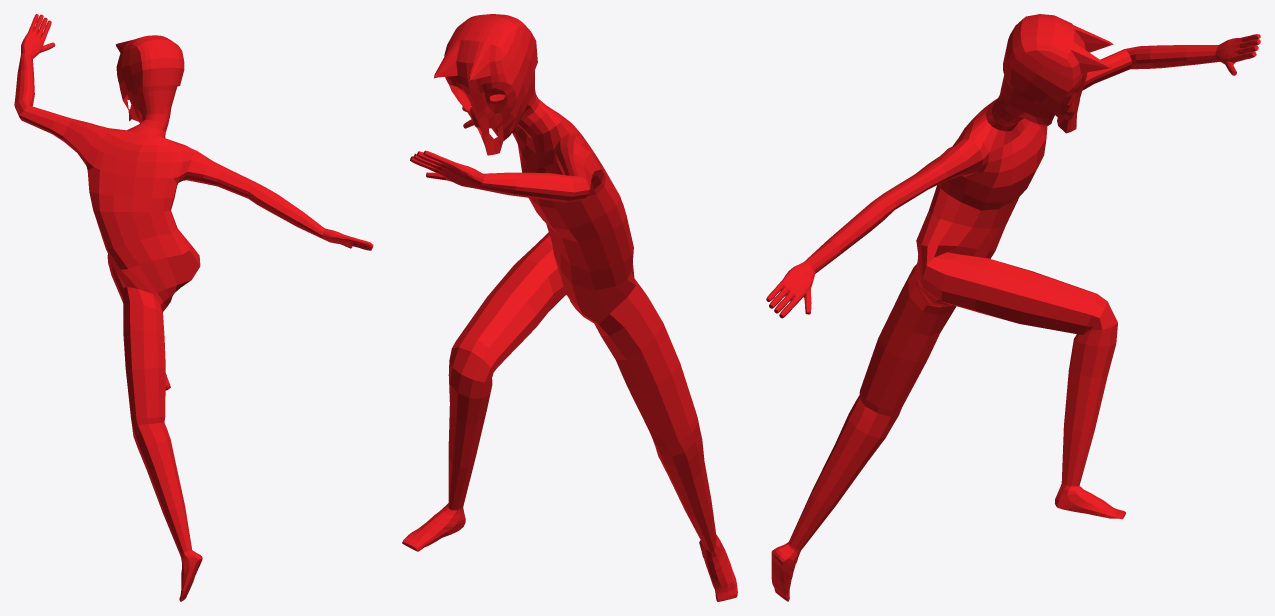
File: saltoadelanteE_000109.obj
3 views of the same model, side by side, from view 1: azimuth 30°, elevation 25°; view 2: azimuth 150°, elevation 25°; view 3: azimuth 270°, elevation 25° (orthographic). The views are drawn at different scales.
Parts seen in each view (by area): view 1: Plane.002_Plane.001; view 2: Plane.002_Plane.001; view 3: Plane.002_Plane.001.
Part boxes in pixels (left/top/right/bottom): Plane.002_Plane.001: left=14, top=14, right=373, bottom=601; Plane.002_Plane.001: left=402, top=14, right=737, bottom=601; Plane.002_Plane.001: left=766, top=14, right=1260, bottom=601.
Size of the model in its own units: 3.41 by 6.95 by 5.
